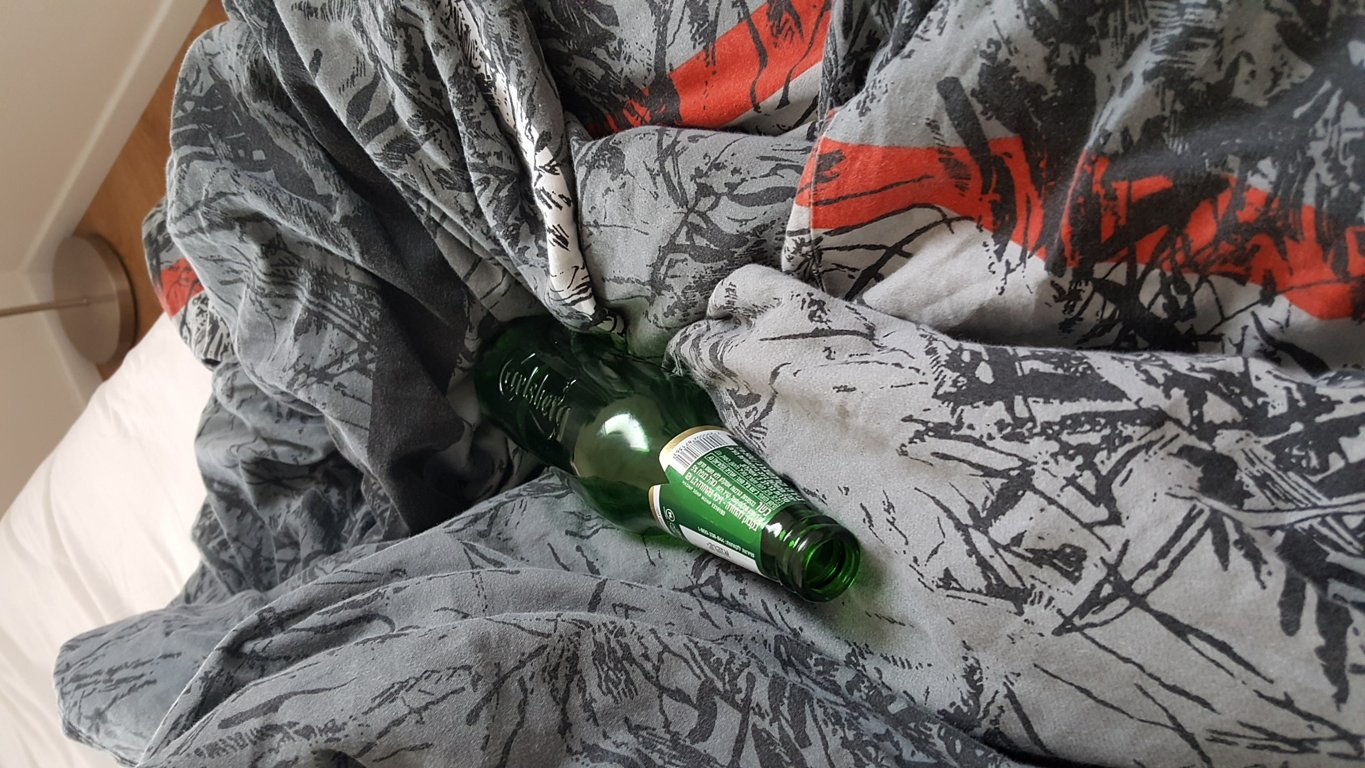beer: (474, 316, 864, 596)
